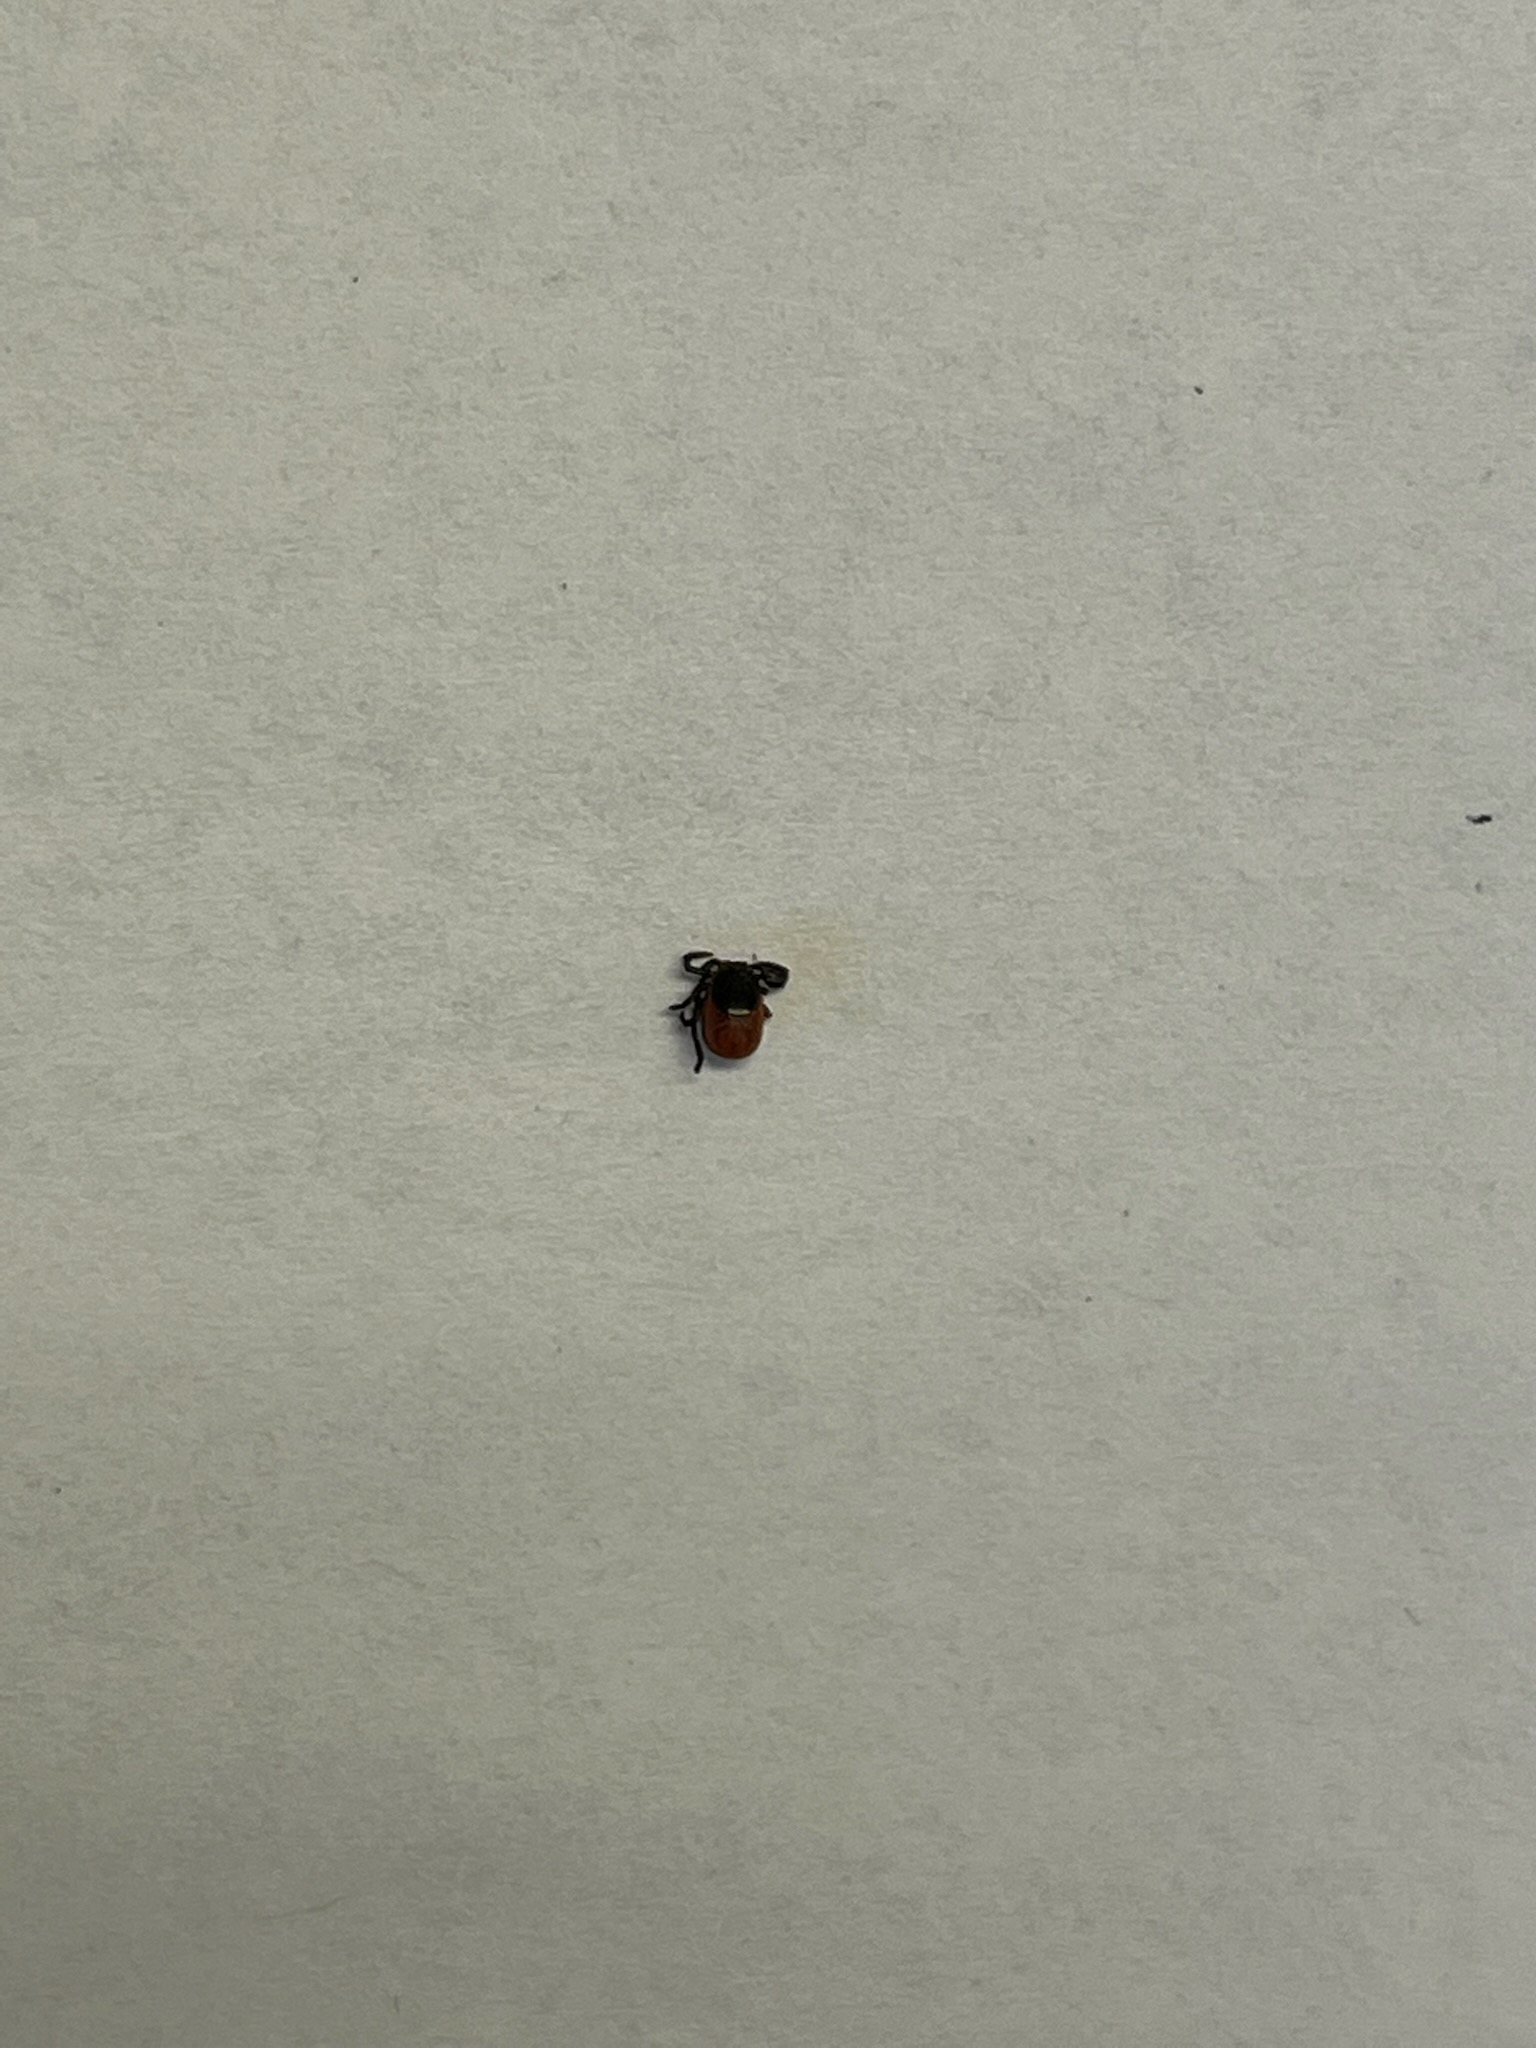unlabelled_tick: (654, 918, 807, 1088)
